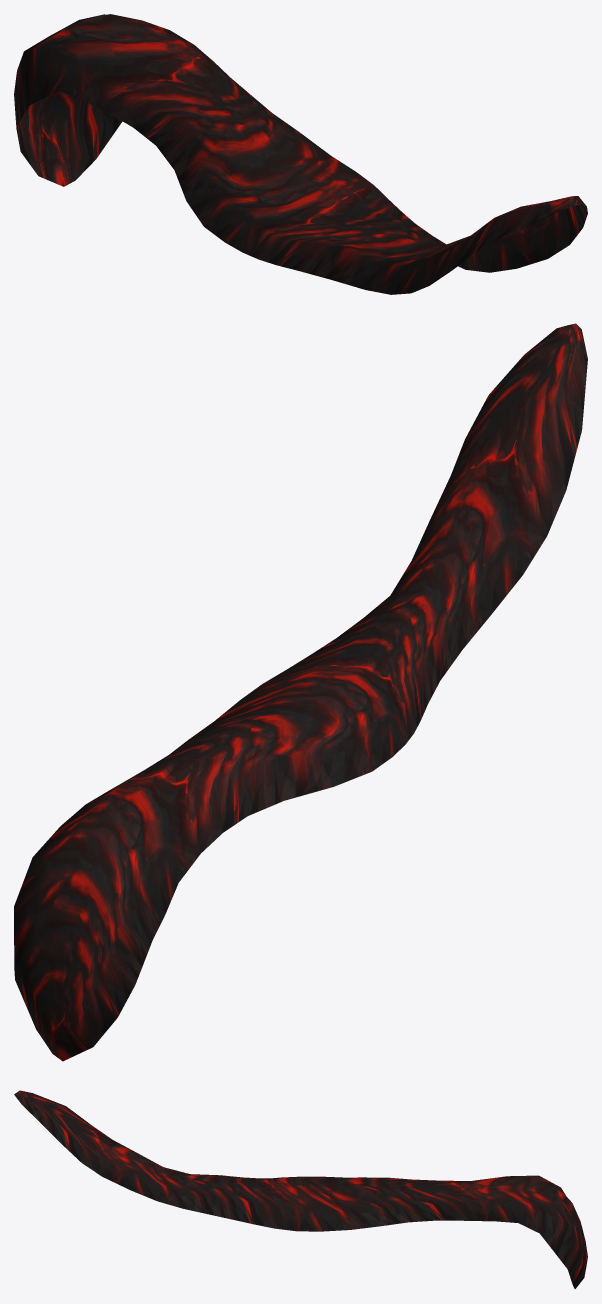
The model's file is SM_Env_Lava_River_01.fbx.
3 renders of one model, top to bottom at view 1: azimuth 30°, elevation 25°; view 2: azimuth 150°, elevation 25°; view 3: azimuth 270°, elevation 25°, orthographic. The views are drawn at different scales.
Parts seen in each view (by area): view 1: SM_Env_Lava_River_01; view 2: SM_Env_Lava_River_01; view 3: SM_Env_Lava_River_01.
Part boxes in pixels (box(x1,y1,x2,y2)): SM_Env_Lava_River_01: box(14, 14, 587, 294); SM_Env_Lava_River_01: box(14, 323, 587, 1061); SM_Env_Lava_River_01: box(14, 1090, 587, 1288).
Bounding box in the file's own units: 591 × 1242 × 3263.
